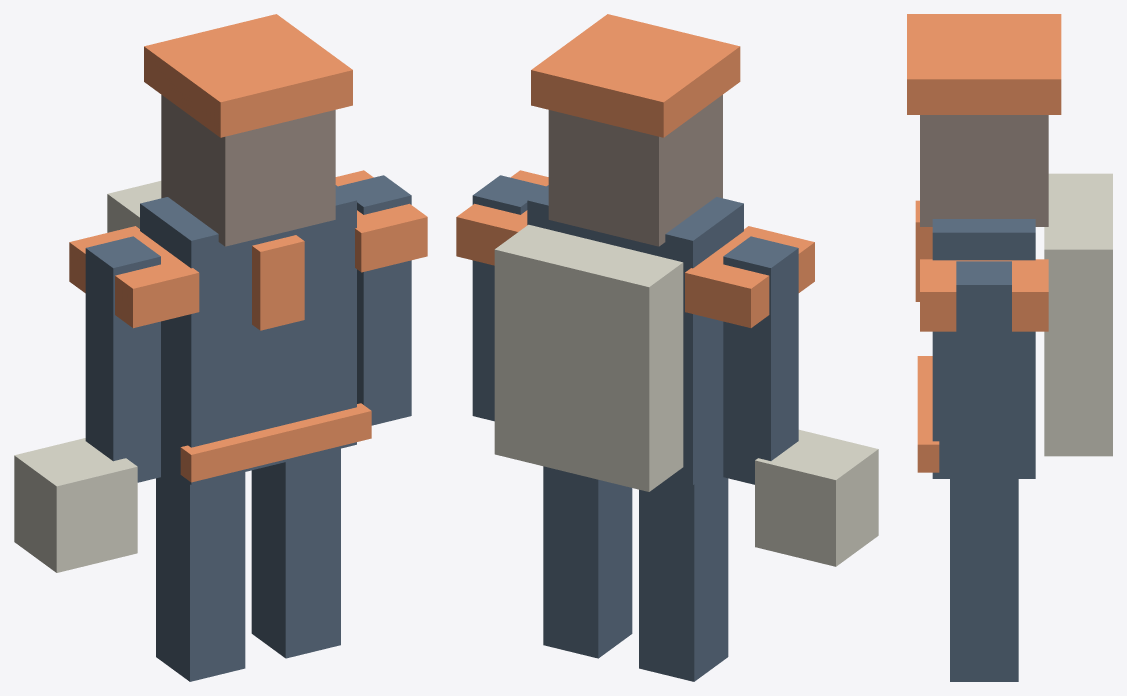
Rendered from 03_vale_spirebound_specialist_at_resource.glb.
3 renders of one model, left to right at view 1: azimuth 30°, elevation 25°; view 2: azimuth 150°, elevation 25°; view 3: azimuth 270°, elevation 25°, orthographic.
Parts seen in each view (by area): view 1: Vale Spirebound, Specialist at Resource; view 2: Vale Spirebound, Specialist at Resource; view 3: Vale Spirebound, Specialist at Resource.
Boxes of the visible parts, left/top/right/bottom form: Vale Spirebound, Specialist at Resource: left=14, top=14, right=427, bottom=681; Vale Spirebound, Specialist at Resource: left=456, top=14, right=878, bottom=681; Vale Spirebound, Specialist at Resource: left=907, top=14, right=1112, bottom=681.
Bounding box in the file's own units: 0.9813 × 1.52 × 0.4734.
